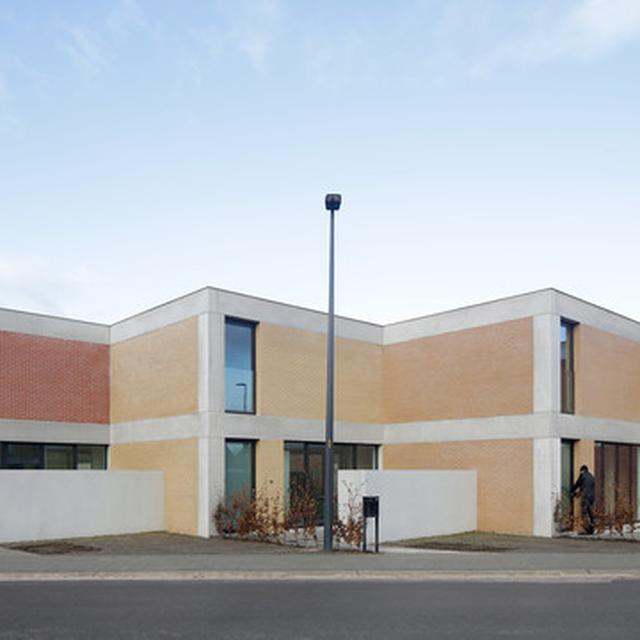building: (21, 281, 640, 557)
